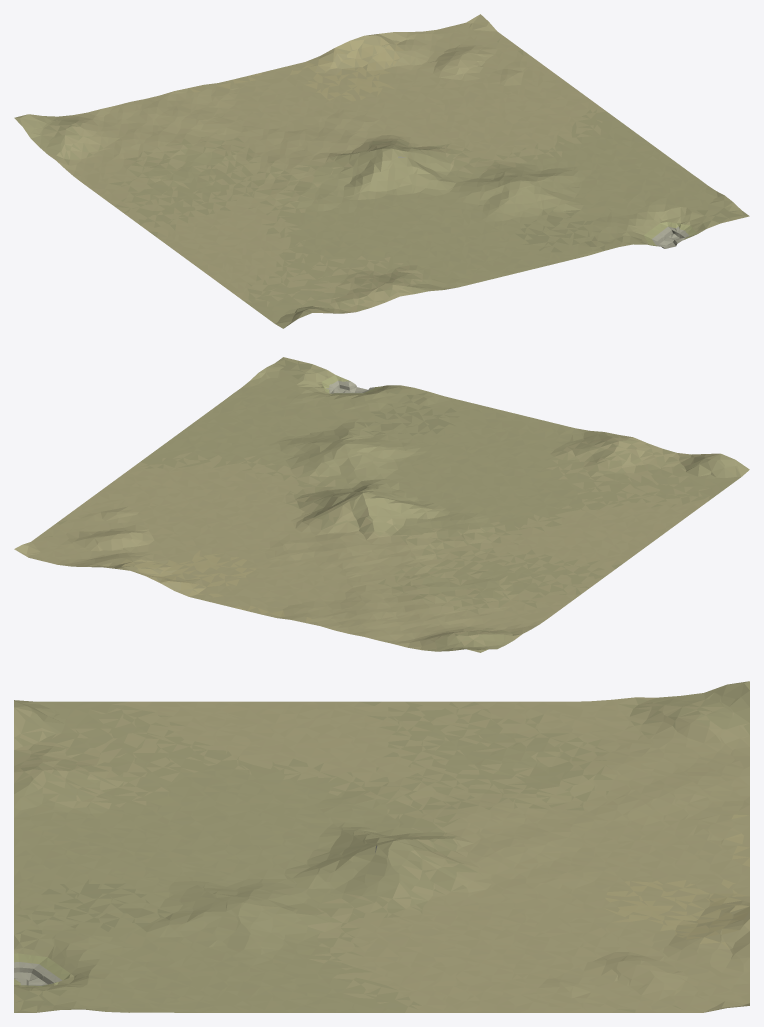
The model's file is Ground_-1_-2.glb.
3 views of the same model, one above another, from view 1: azimuth 30°, elevation 25°; view 2: azimuth 150°, elevation 25°; view 3: azimuth 270°, elevation 25° (orthographic). The views are drawn at different scales.
Parts seen in each view (by area): view 1: Ground_-1_-2; view 2: Ground_-1_-2; view 3: Ground_-1_-2.
Boxes of the visible parts, x1=… form: Ground_-1_-2: x1=14, y1=14, x2=749, y2=328; Ground_-1_-2: x1=14, y1=357, x2=749, y2=652; Ground_-1_-2: x1=14, y1=681, x2=749, y2=1012.
Size of the model in its own units: 768 by 52.44 by 768.
